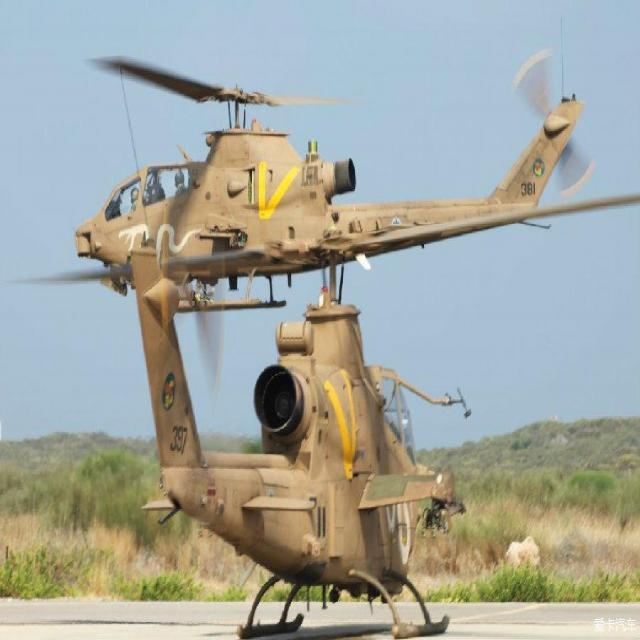MIL_HELO: (77, 42, 590, 310)
